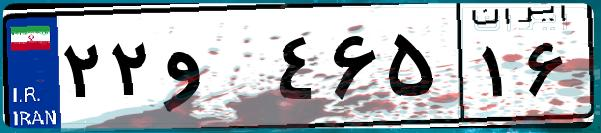1: (475, 38, 525, 113)
2: (57, 26, 110, 100), (110, 28, 158, 98)
4: (270, 28, 330, 110)
5: (385, 28, 445, 110)
6: (330, 28, 385, 110), (525, 38, 570, 115)
و: (158, 20, 270, 120)
